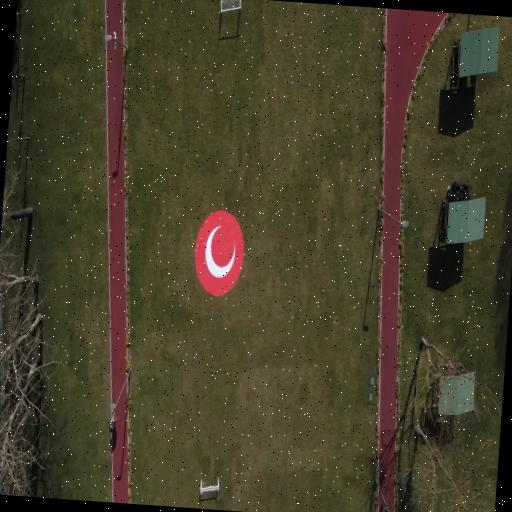UAI: (194, 211, 244, 296)
person: (109, 411, 116, 431), (383, 503, 389, 511)
